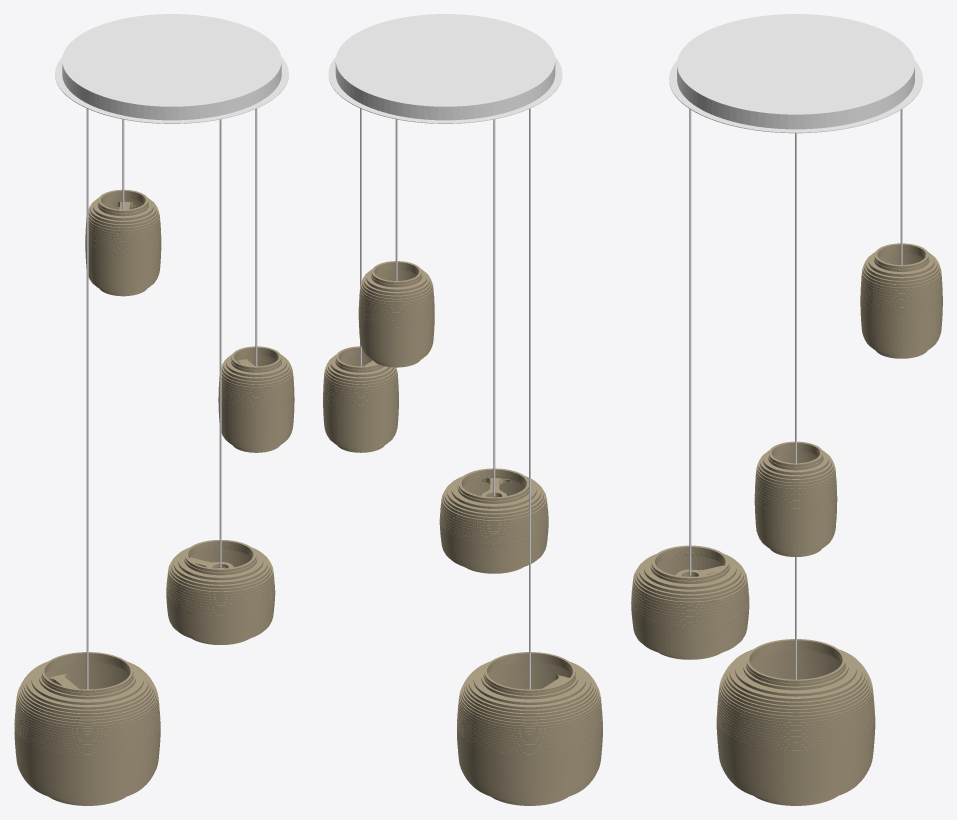
The picture shows the model from 3 angles, left to right: view 1: azimuth 30°, elevation 25°; view 2: azimuth 150°, elevation 25°; view 3: azimuth 270°, elevation 25°; orthographic projection. The views are drawn at different scales.
Size of the model in its own units: 0.7851 by 2 by 0.7372.
